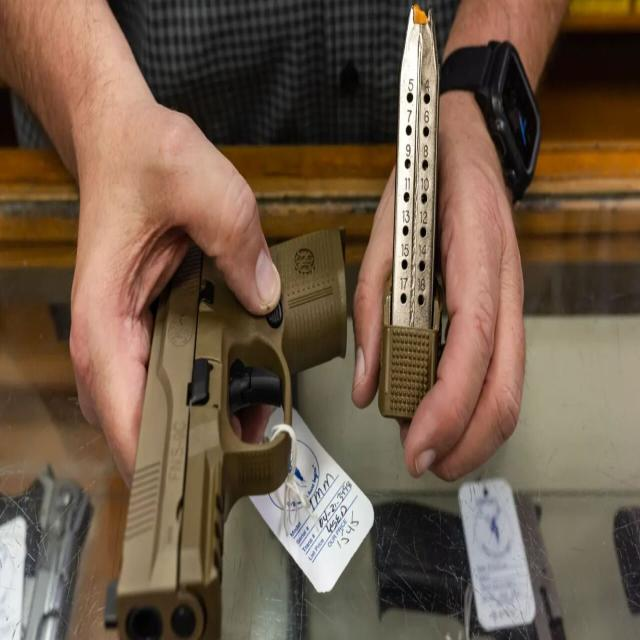HandGun: (104, 229, 347, 640)
